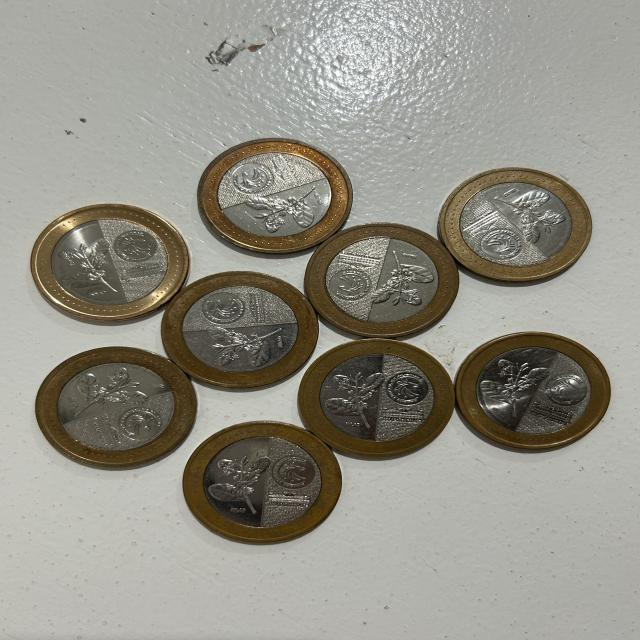20_New_Back: (208, 454, 272, 515), (369, 248, 430, 311), (61, 238, 122, 297), (501, 187, 567, 241), (77, 368, 152, 414), (327, 365, 382, 427), (210, 325, 294, 365), (485, 361, 541, 418), (243, 186, 316, 226)
